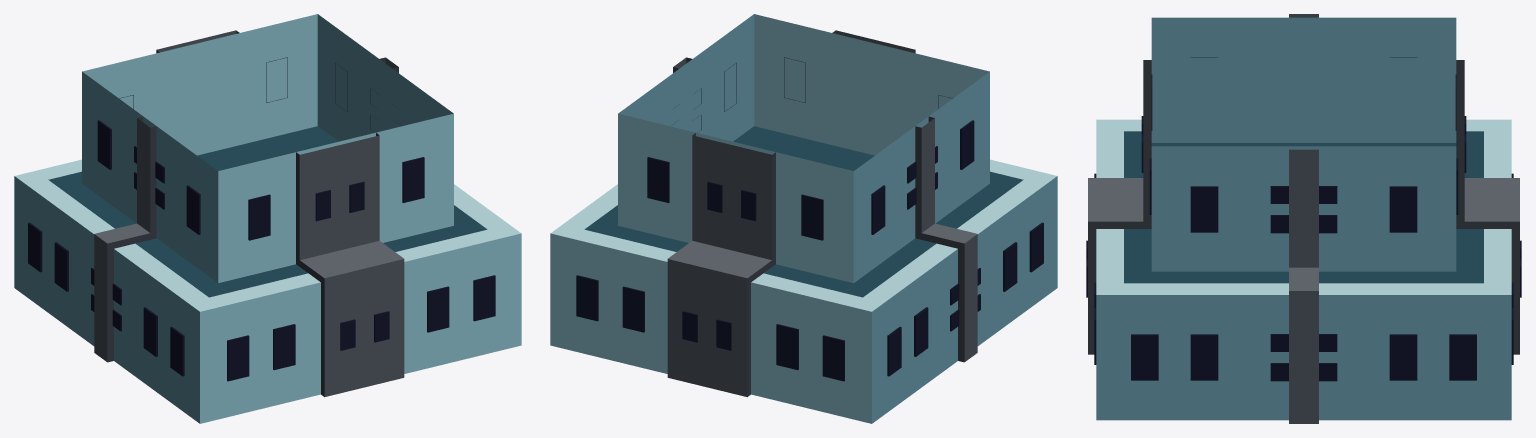
The model's file is TB_CITY_Skysc_Q_Mid_Top_Blue.FBX.
3 renders of one model, left to right at view 1: azimuth 30°, elevation 25°; view 2: azimuth 150°, elevation 25°; view 3: azimuth 270°, elevation 25°, orthographic. The views are drawn at different scales.
Visible parts, largest first — view 1: TB_CITY_Skysc_Q_Mid_Top_Blue; view 2: TB_CITY_Skysc_Q_Mid_Top_Blue; view 3: TB_CITY_Skysc_Q_Mid_Top_Blue.
Part boxes in pixels (x1,y1,x2,y2): TB_CITY_Skysc_Q_Mid_Top_Blue: [14, 14, 521, 423]; TB_CITY_Skysc_Q_Mid_Top_Blue: [550, 14, 1057, 423]; TB_CITY_Skysc_Q_Mid_Top_Blue: [1086, 14, 1521, 423].
Size of the model in its own units: 15.6 by 10 by 15.73.
